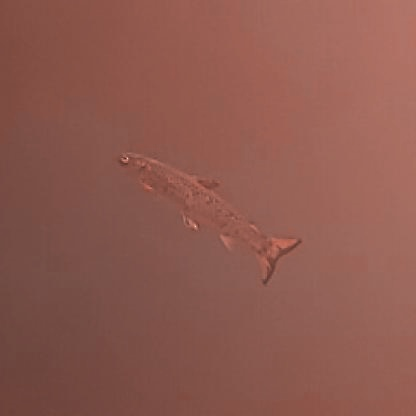salmon: (104, 140, 305, 286)
